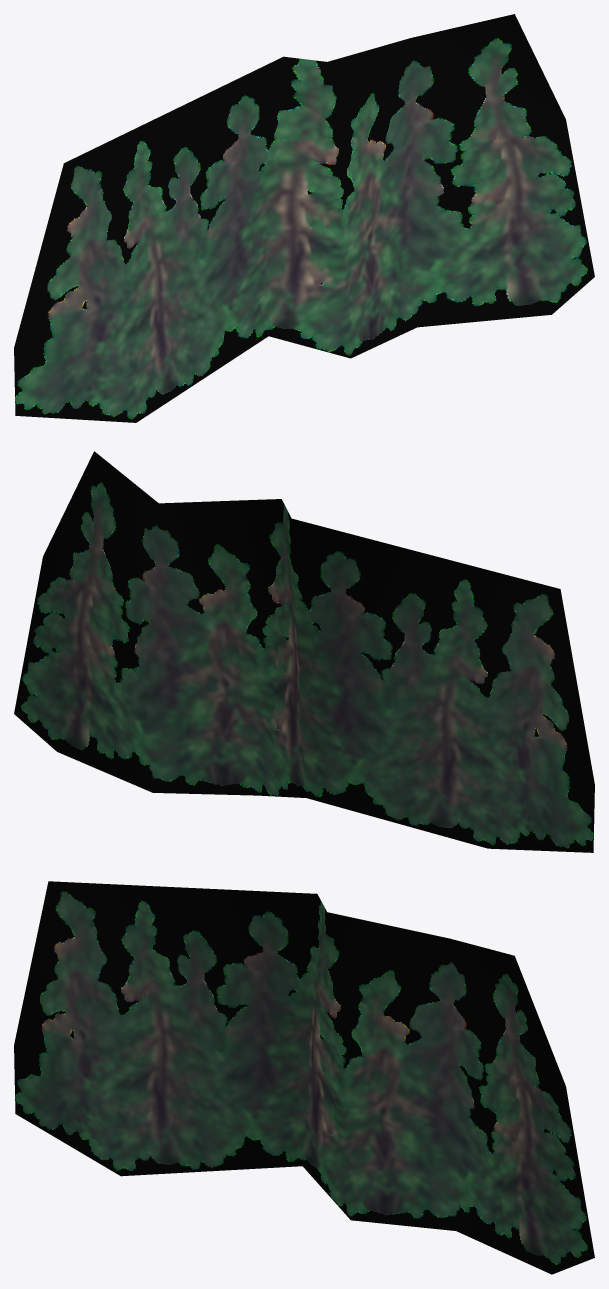
The model's file is Pine Tree Group.FBX.
3 renders of one model, top to bottom at view 1: azimuth 30°, elevation 25°; view 2: azimuth 150°, elevation 25°; view 3: azimuth 330°, elevation 25°, orthographic.
Parts seen in each view (by area): view 1: Pine Tree Group; view 2: Pine Tree Group; view 3: Pine Tree Group.
Boxes of the visible parts, x1,y1,x2,y2 form: Pine Tree Group: (14,14,594,422); Pine Tree Group: (14,451,594,852); Pine Tree Group: (14,881,594,1274).
Bounding box in the file's own units: 1035 × 83.77 × 528.
